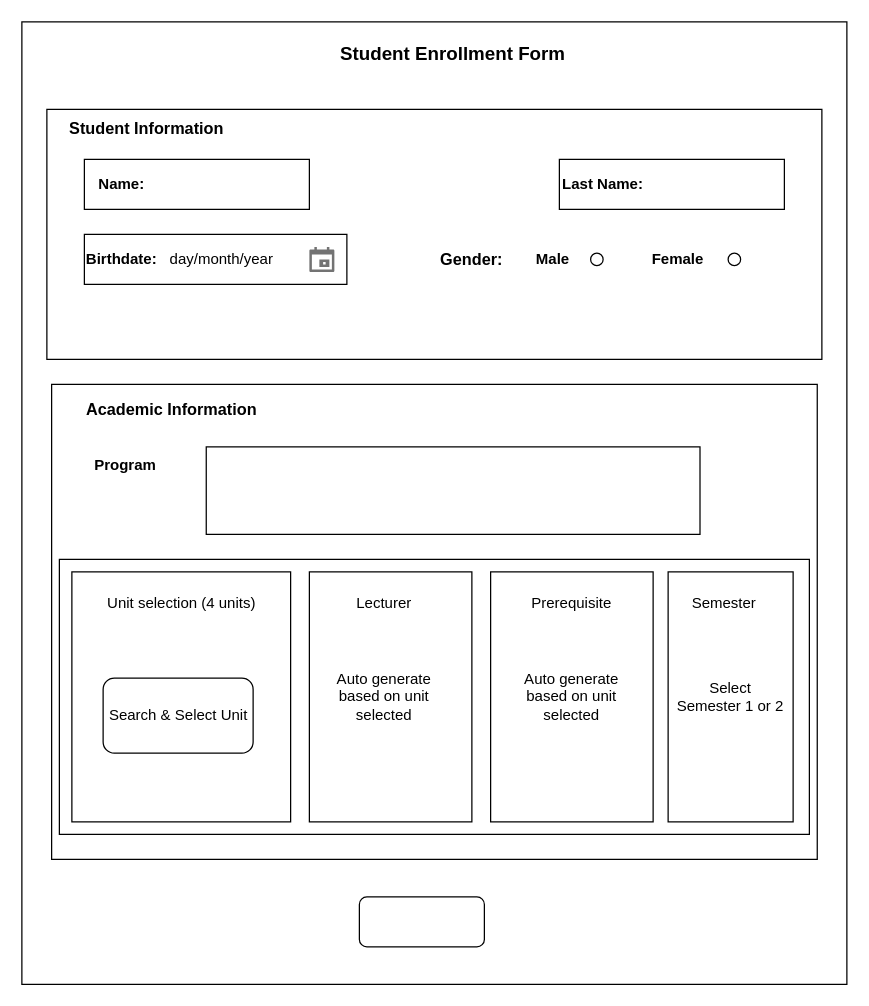
This 869x1006 diagram has some shape labels left out. Each missing label, with the box of its shape:
Enroll: (358, 896, 484, 947)
Searchl/Select or Enter program: (205, 446, 700, 534)
